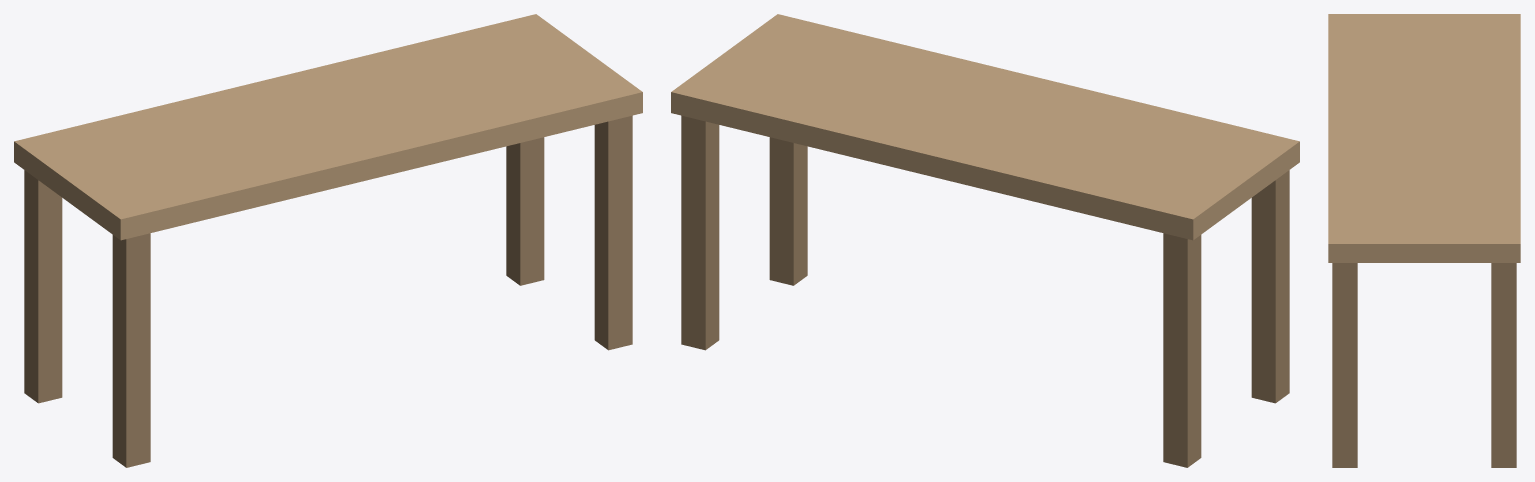
File: table.glb
3 views of the same model, side by side, from view 1: azimuth 30°, elevation 25°; view 2: azimuth 150°, elevation 25°; view 3: azimuth 270°, elevation 25° (orthographic). The views are drawn at different scales.
Visible parts, largest first — view 1: table; view 2: table; view 3: table.
Boxes of the visible parts, x1,y1,x2,y2 form: table: [14, 14, 642, 467]; table: [671, 14, 1299, 467]; table: [1328, 14, 1520, 467].
Size of the model in its own units: 1.3 by 0.6 by 0.46.
